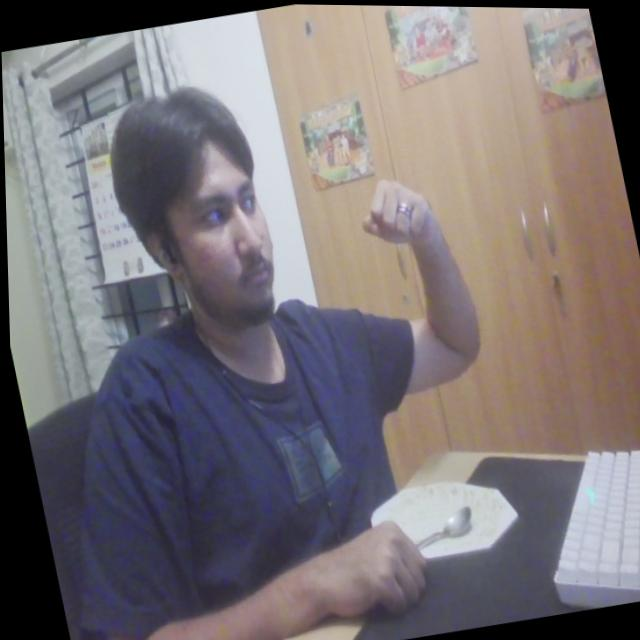yes: (352, 165, 445, 257)
